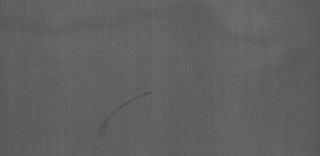water spot: (88, 80, 152, 142)
